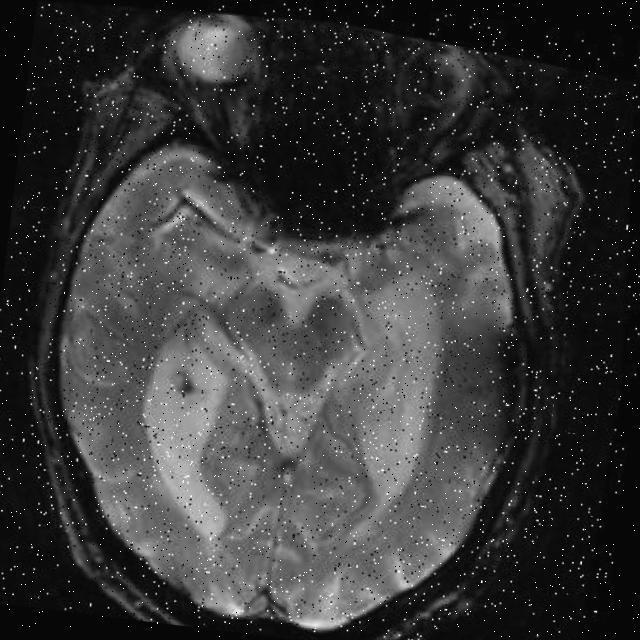MCI: (423, 276, 557, 434), (131, 329, 216, 413)
